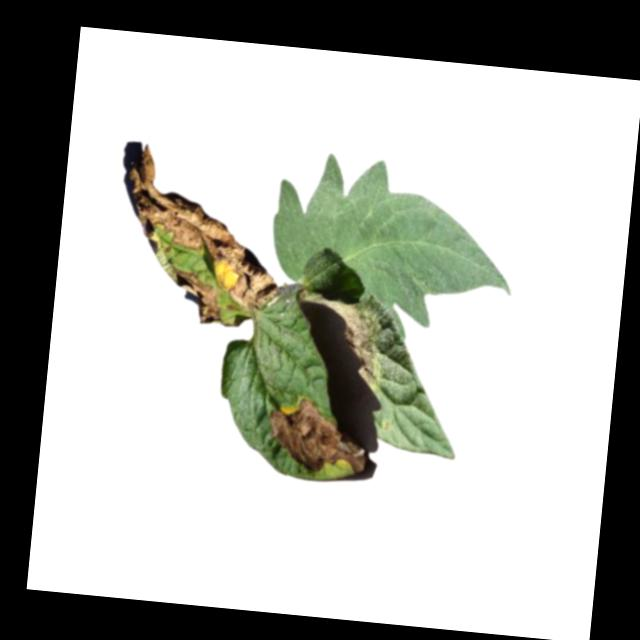Late_blight: (110, 142, 289, 331), (294, 294, 385, 406), (261, 394, 373, 477)
healthy: (264, 149, 523, 336)
